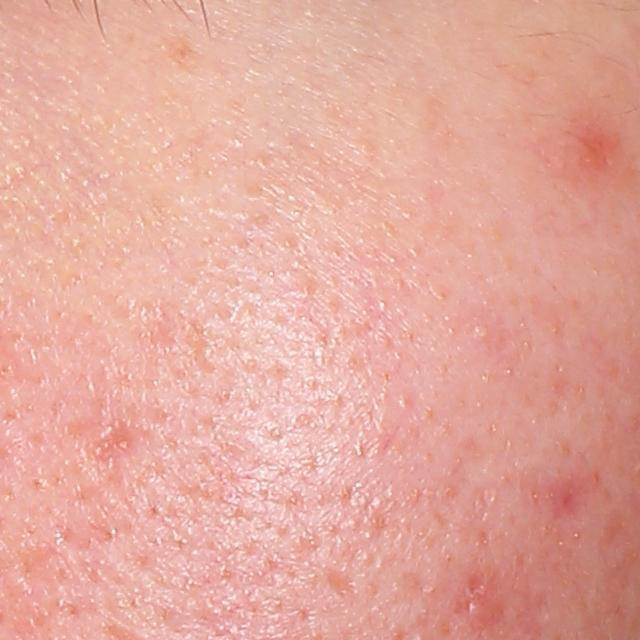atrophic_scar: (83, 420, 133, 467), (318, 565, 362, 602)
melasma: (146, 31, 206, 73)
